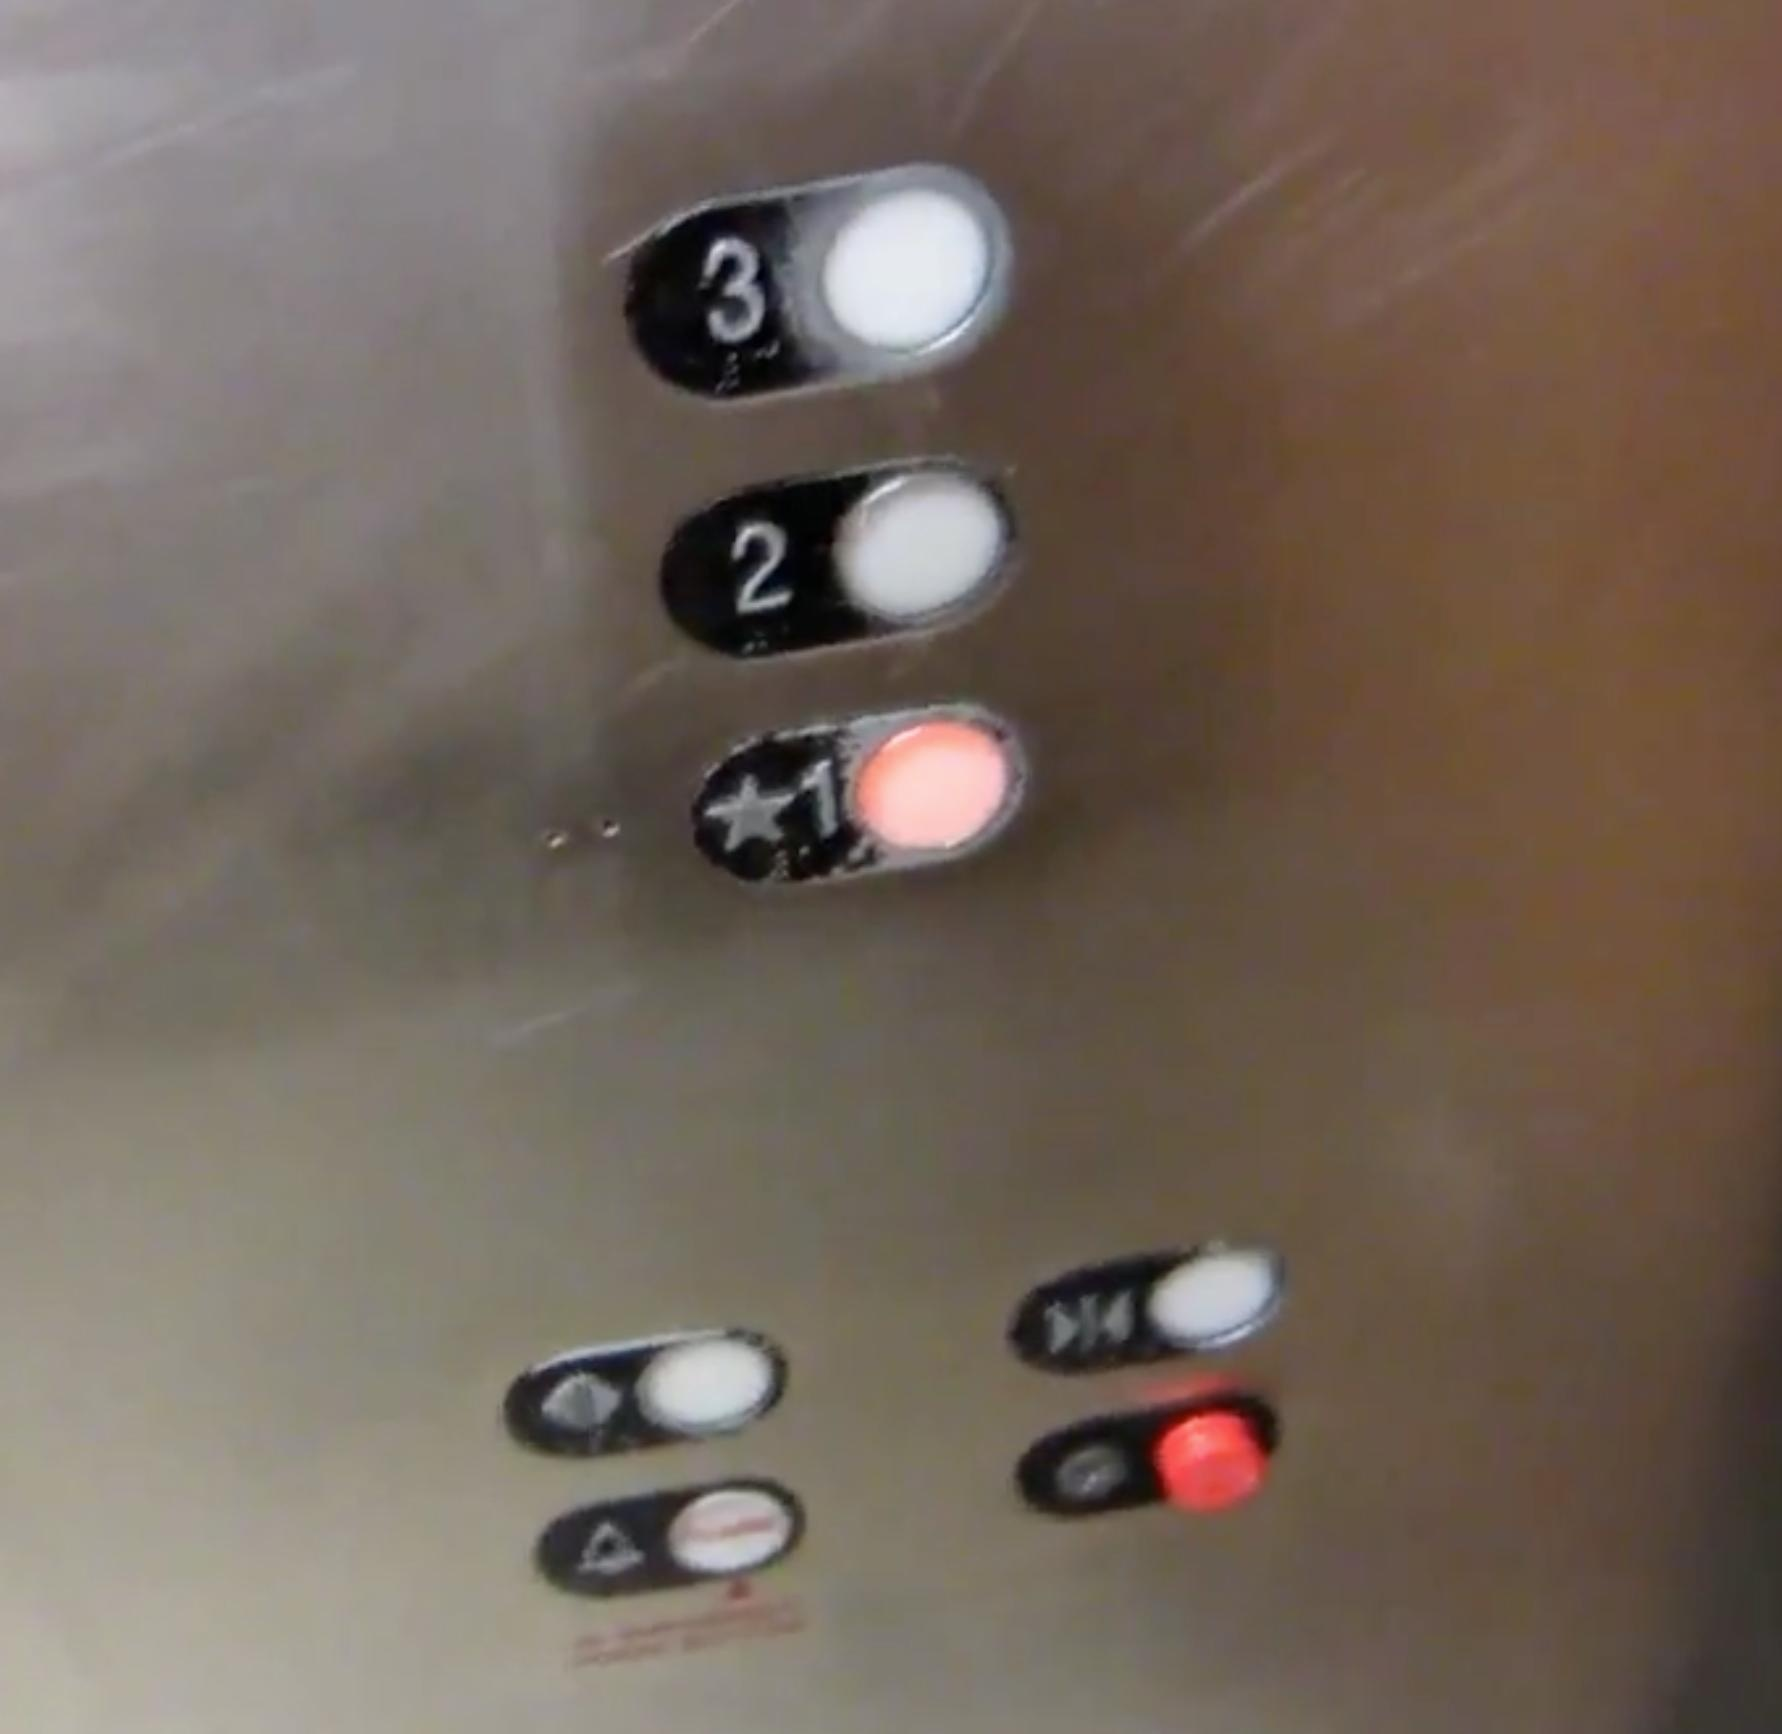2: (659, 457, 1017, 662)
3: (625, 162, 1014, 402)
alarm: (536, 1479, 803, 1600)
close: (1006, 1236, 1286, 1374)
open: (503, 1328, 788, 1459)
s1: (687, 703, 1029, 889)
stop: (1015, 1392, 1279, 1519)
